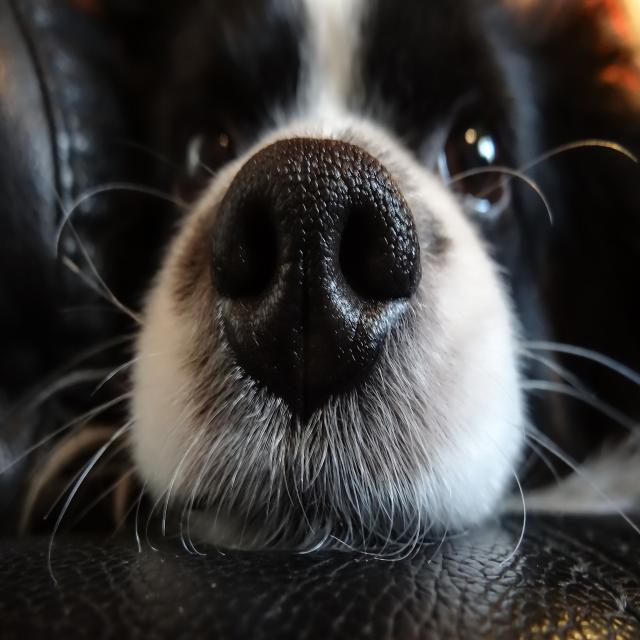fungal infection: (234, 380, 436, 460), (180, 214, 222, 424), (392, 326, 439, 386), (420, 209, 450, 272), (416, 282, 434, 344)
